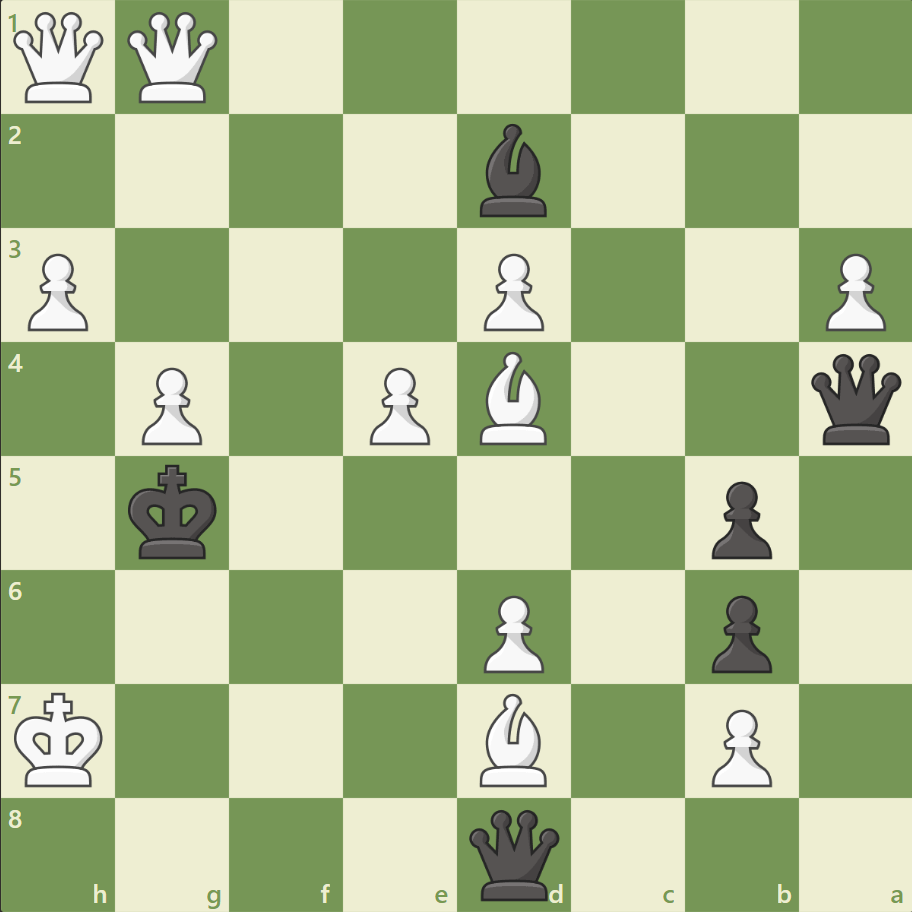B: (471, 687, 555, 790), (471, 347, 555, 449)
K: (11, 685, 111, 793)
P: (701, 700, 776, 791), (474, 586, 549, 677), (133, 359, 208, 450), (474, 246, 549, 337), (20, 246, 95, 337), (361, 359, 435, 450), (815, 246, 889, 337)
Q: (124, 9, 223, 108), (10, 9, 109, 108)
b: (471, 120, 555, 222)
k: (124, 458, 224, 566)
p: (701, 586, 776, 677), (701, 473, 776, 564)
q: (805, 349, 904, 449), (464, 804, 563, 903)
